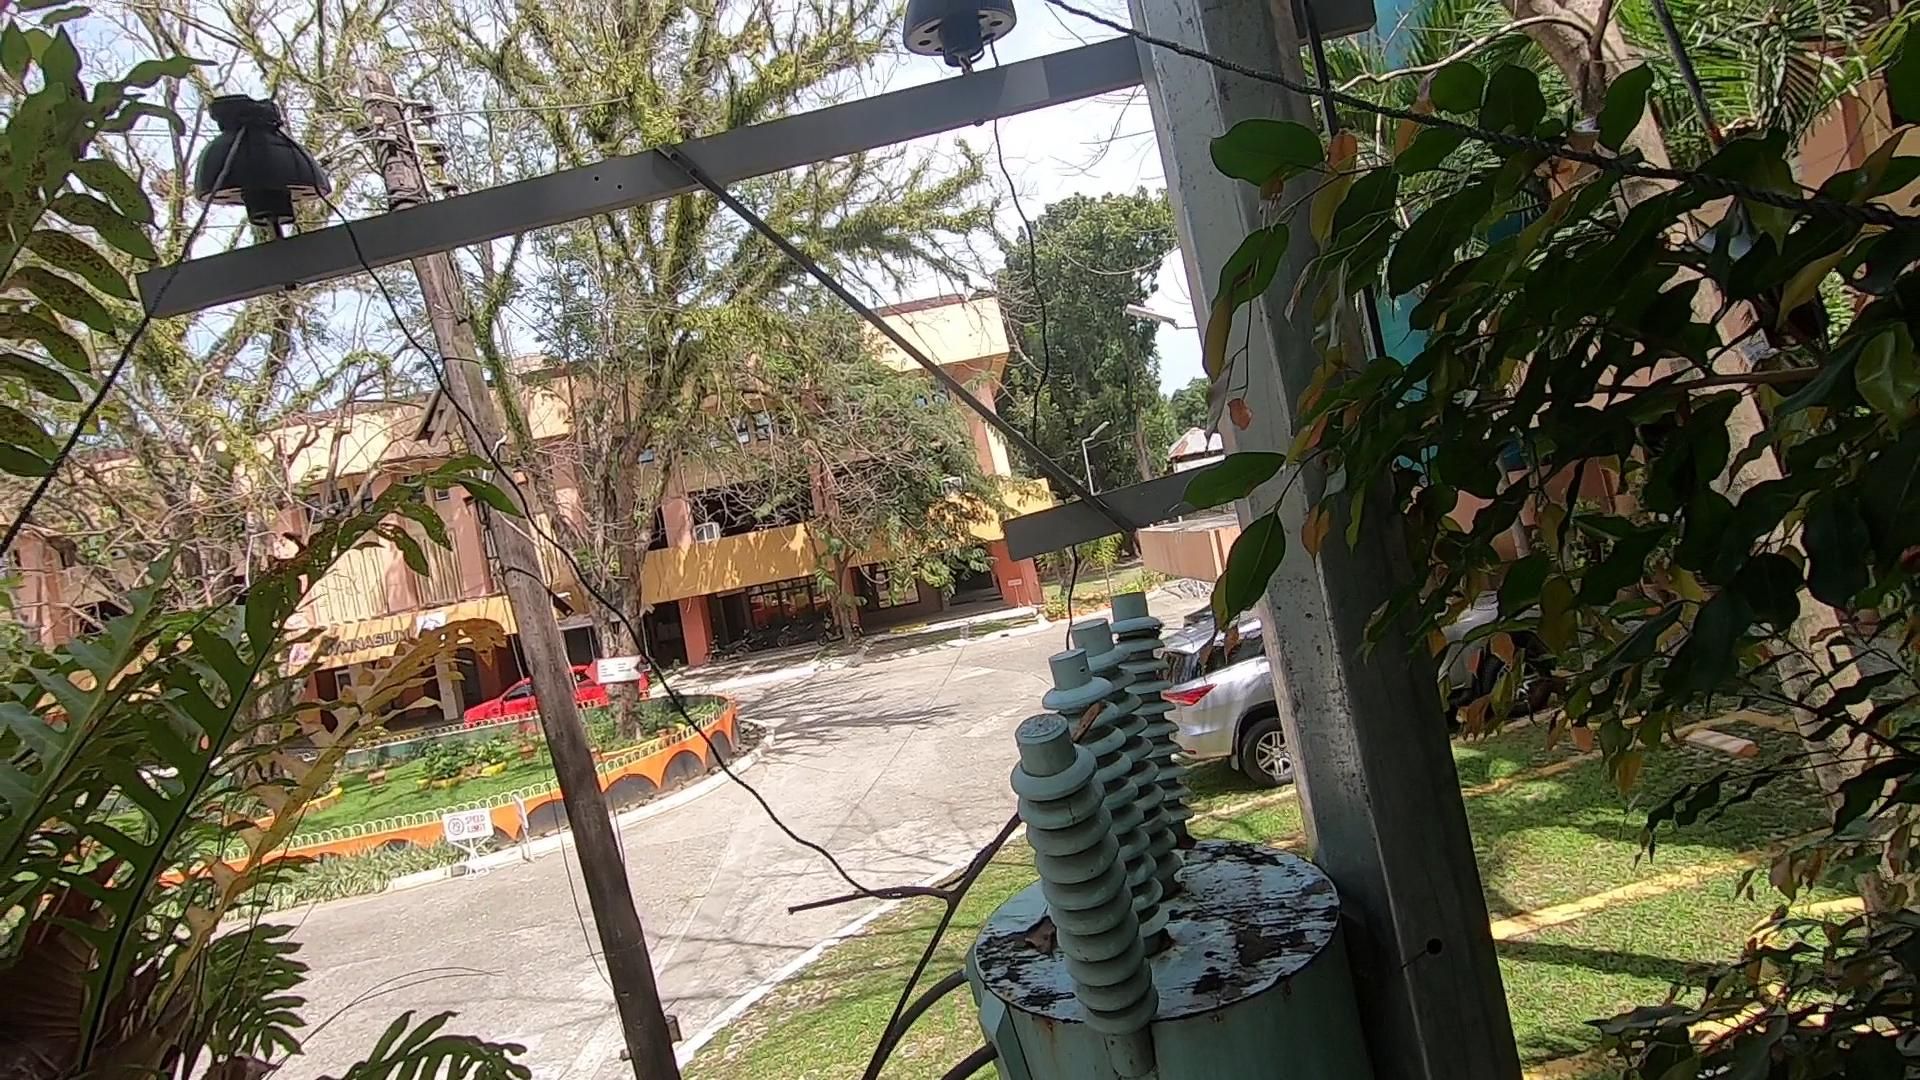leaf: (1017, 907, 1069, 963)
tree branch: (742, 698, 1172, 1080)
